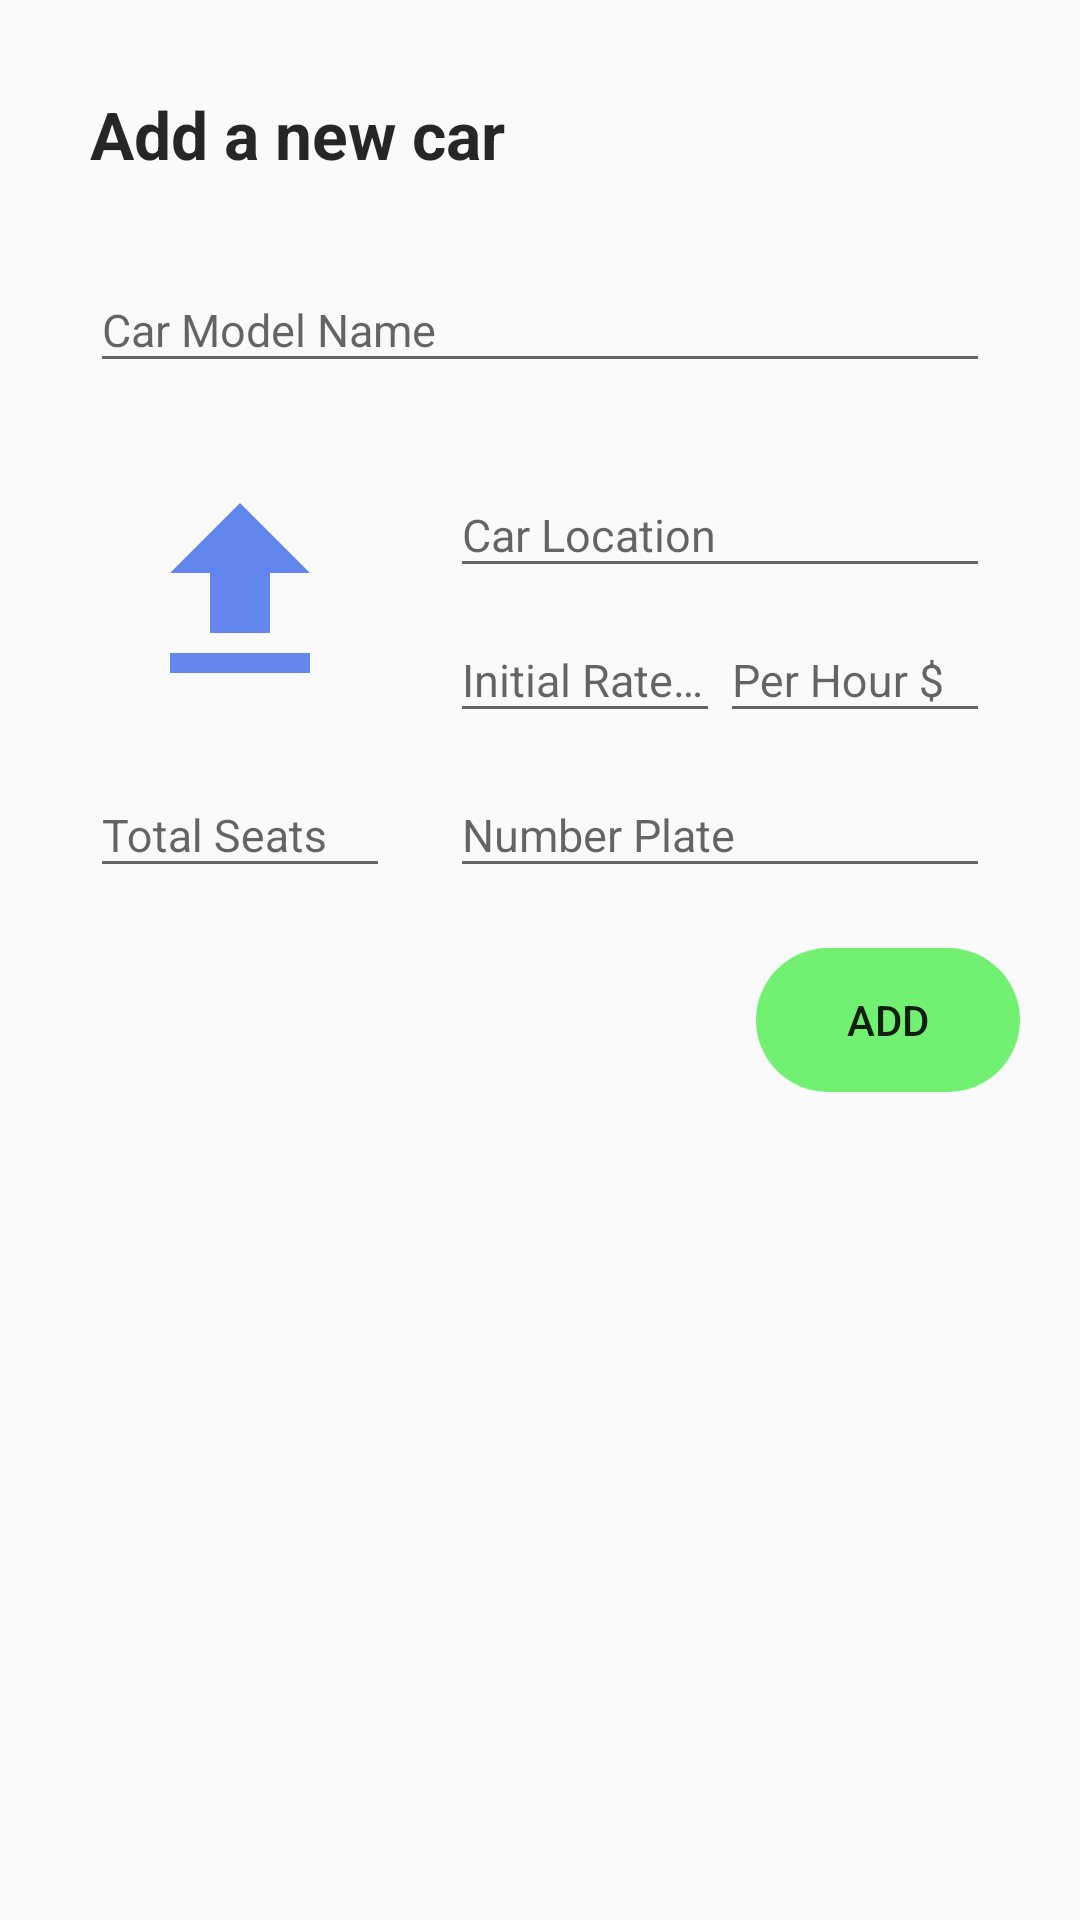

Point at icon controls on the screen. Image size 1080 x 1920, points as (x,y).
upload: (240,588)
